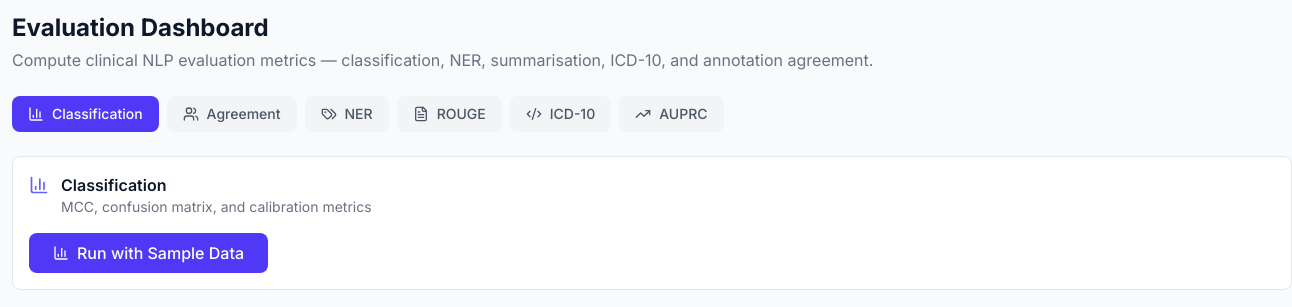
it: EvaluationDashboard › tab navigation › switches to Agreement tab
The image size is (1292, 307).
Click the button "Agreement" at x=232, y=114, box [167,96,296,132]
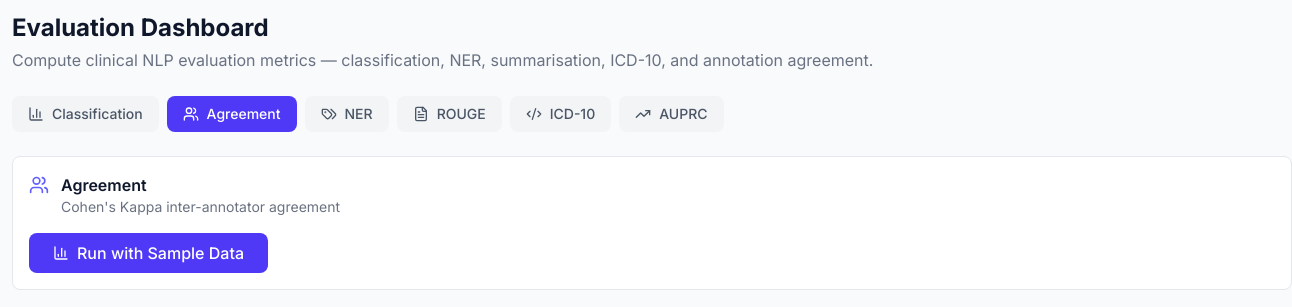
expect the text "Cohen's Kappa inter-annotator agreement" is shown: met, box [61,197,340,217]
